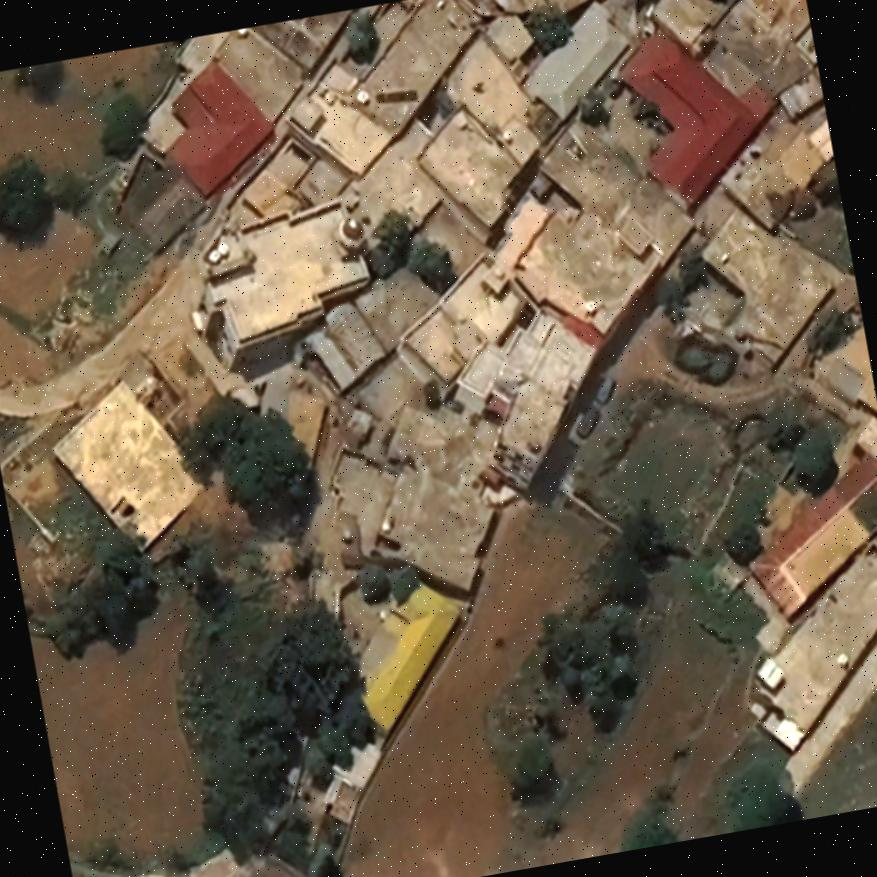Solarpanel: (375, 90, 418, 103)
